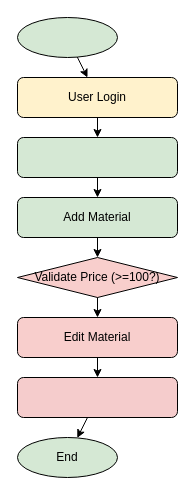
Some shapes in this 195 by 495 pixel diagram are drawn without their labels. The shapes that lost their labels are listed below. From the top down, each one's centre as x and y in pixels, then its label:
point (67, 37): Start
point (97, 157): View Material List
point (97, 397): Delete Material
